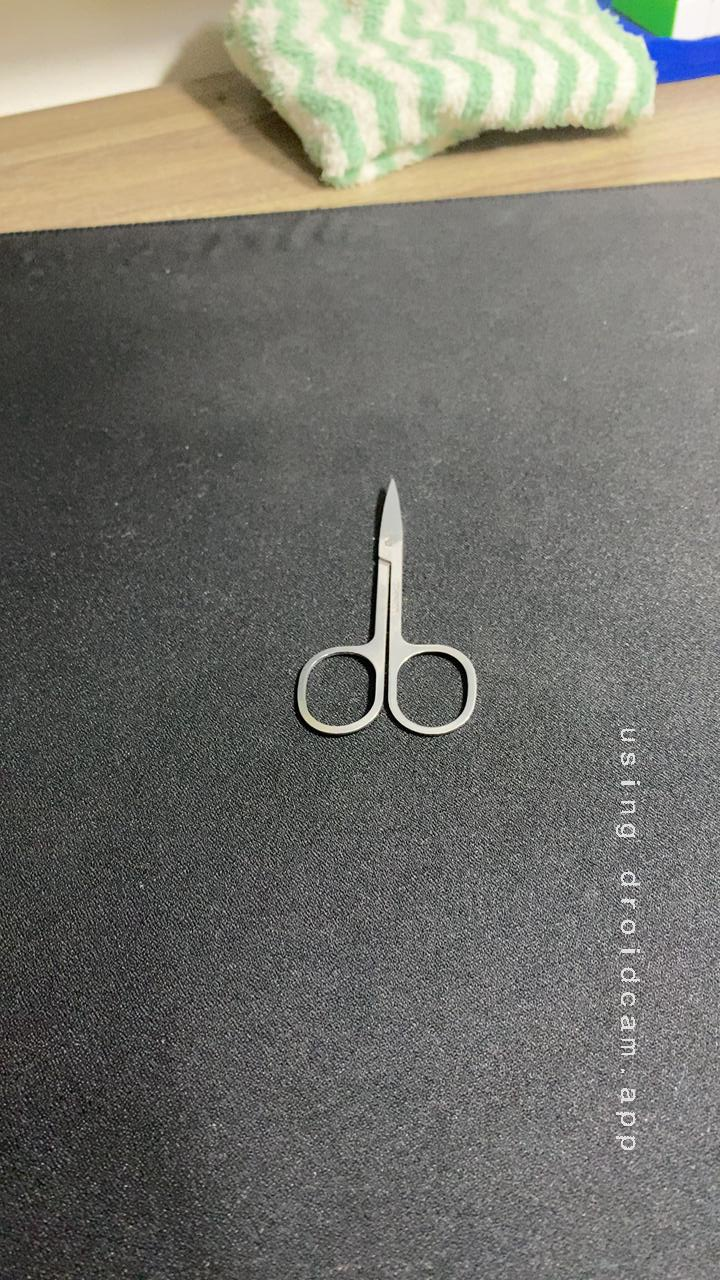scissor: (268, 450, 490, 750)
